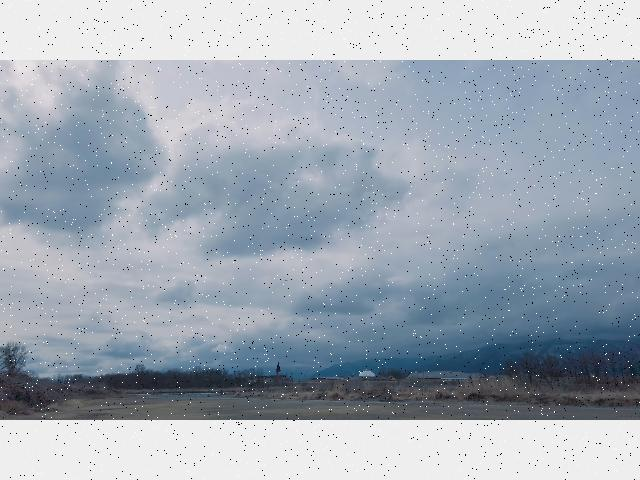Anti-Drone: (282, 277, 290, 284)
